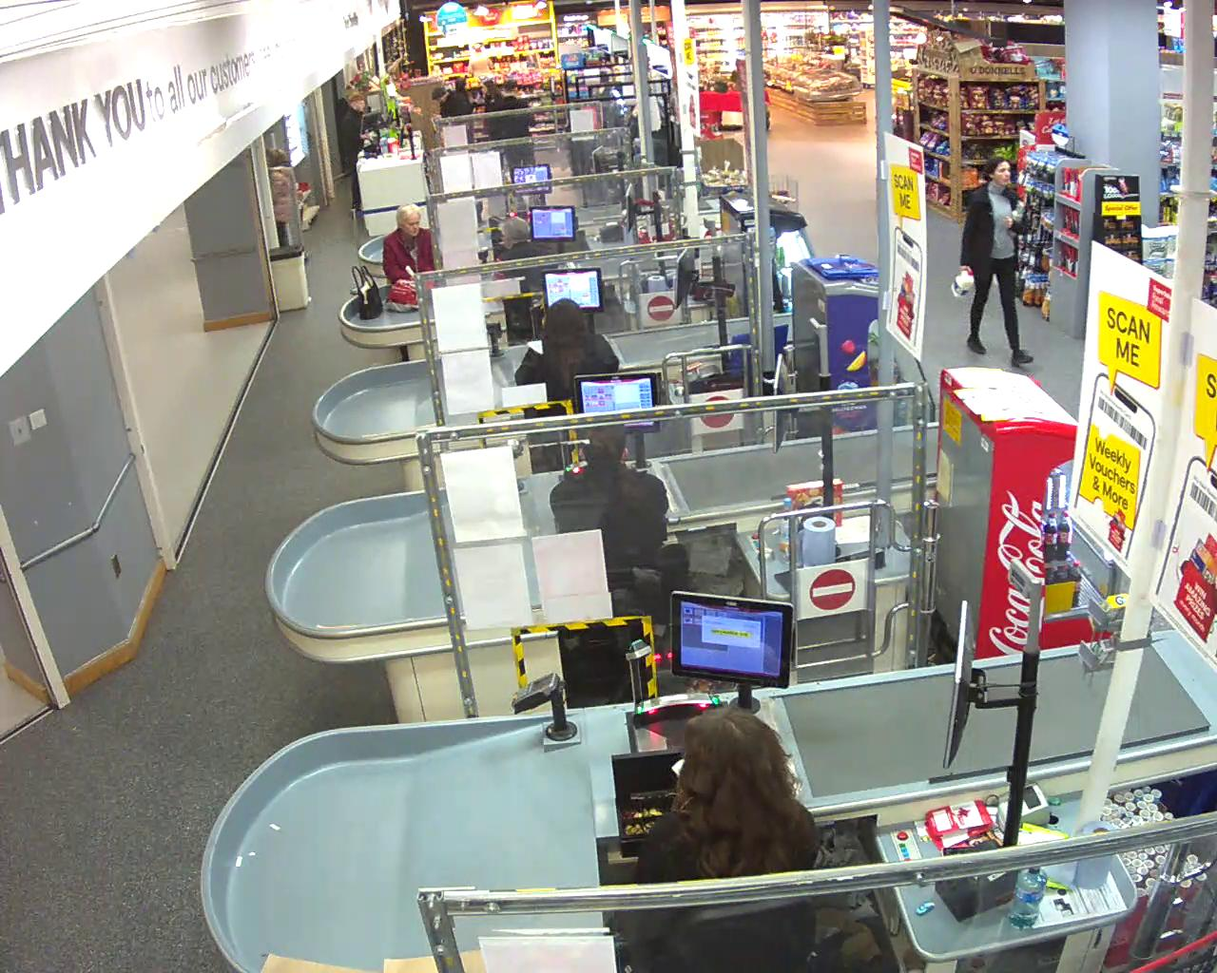carrying-item: (952, 267, 977, 300), (1004, 201, 1027, 235)
occupied-checkout-counter: (500, 581, 833, 973), (476, 359, 686, 584), (478, 250, 630, 375), (473, 185, 579, 260)
person: (960, 155, 1034, 367)
person-with-carrying-item: (952, 155, 1035, 366)
vacant-checkout-counter: (475, 161, 554, 230)
